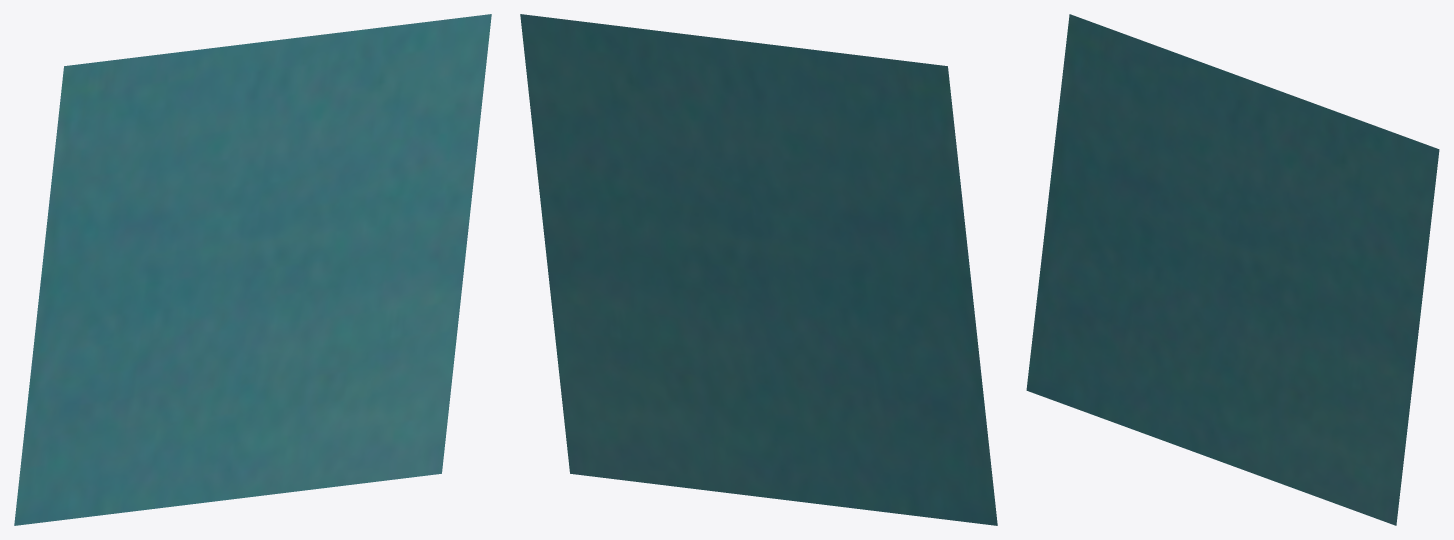
Rendered from data36.glb.
The picture shows the model from 3 angles, left to right: view 1: azimuth 30°, elevation 25°; view 2: azimuth 150°, elevation 25°; view 3: azimuth 330°, elevation 25°; orthographic projection. The views are drawn at different scales.
Parts seen in each view (by area): view 1: data36; view 2: data36; view 3: data36.
Boxes of the visible parts, x1,y1,x2,y2 form: data36: (14,14,491,525); data36: (520,14,997,525); data36: (1026,14,1439,525).
Bounding box in the file's own units: 4.88 × 4.88 × 0.
1 material, 1 textured.
